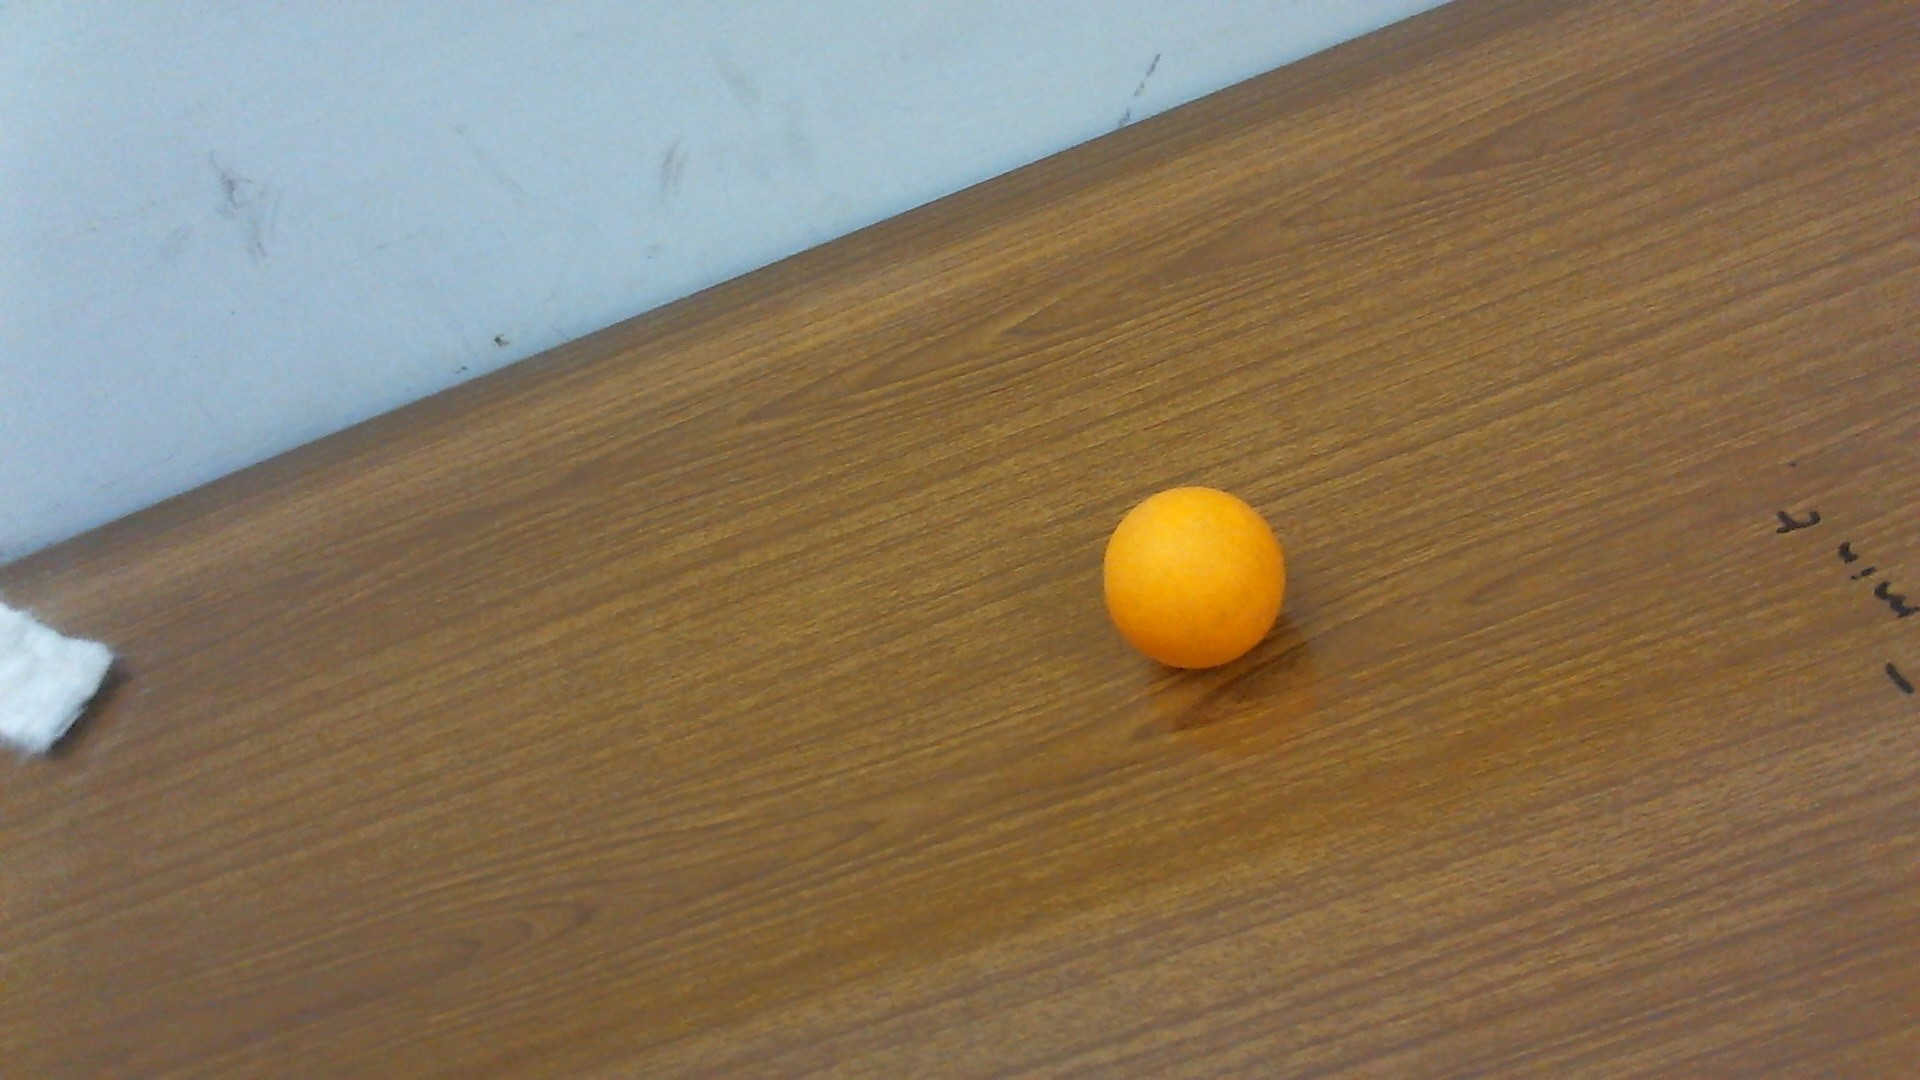ball: (1102, 483, 1291, 675)
